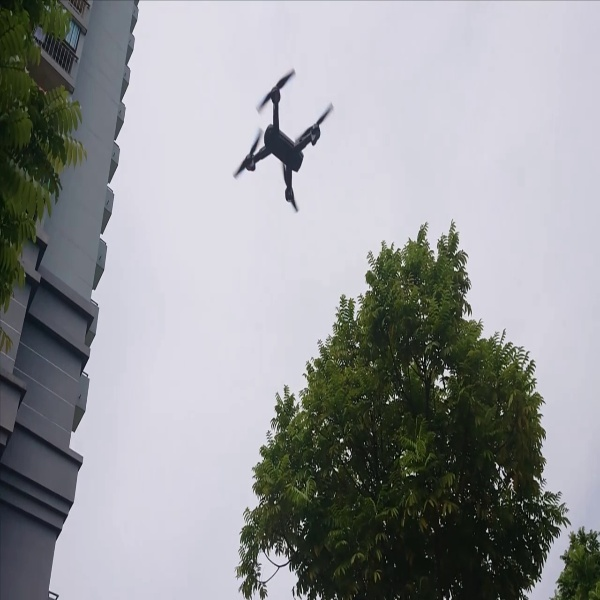drone: (228, 62, 339, 215)
